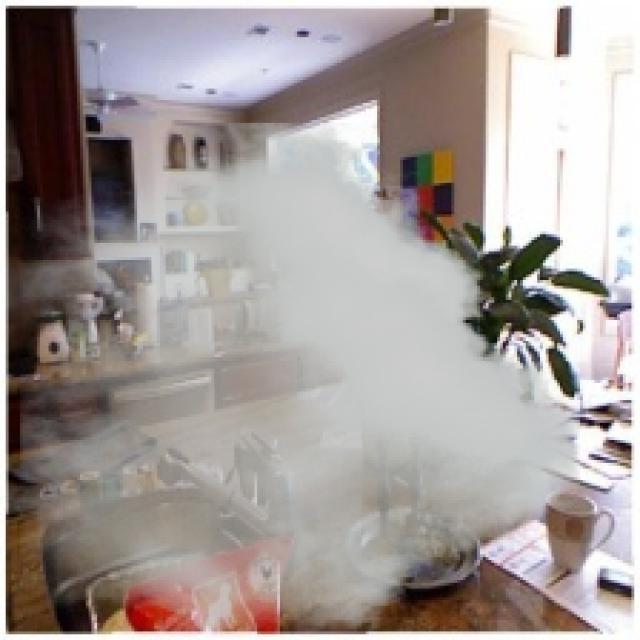Smoke: (20, 122, 580, 638)
